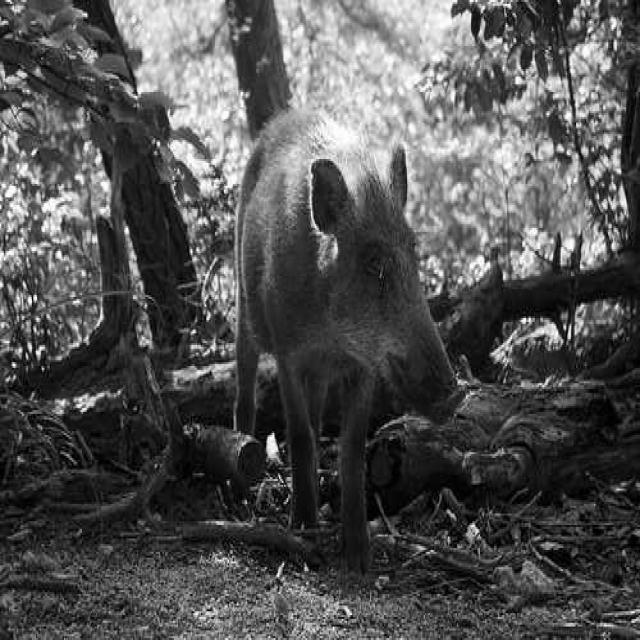boar: (234, 113, 460, 572)
